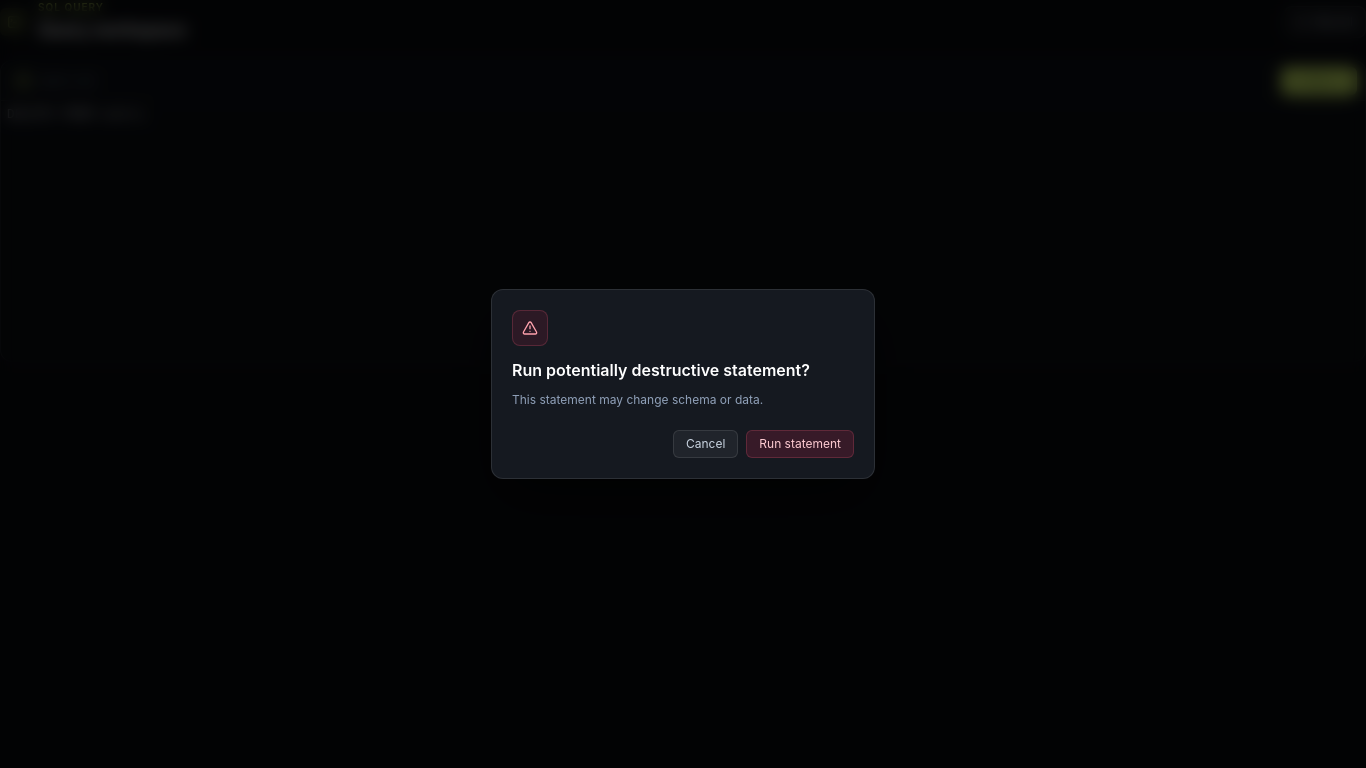
Scenario: SqlWorkspace › does not execute a destructive direct run when cancelled
Click the button "Cancel".
click(706, 444)  # box [673,430,738,458]
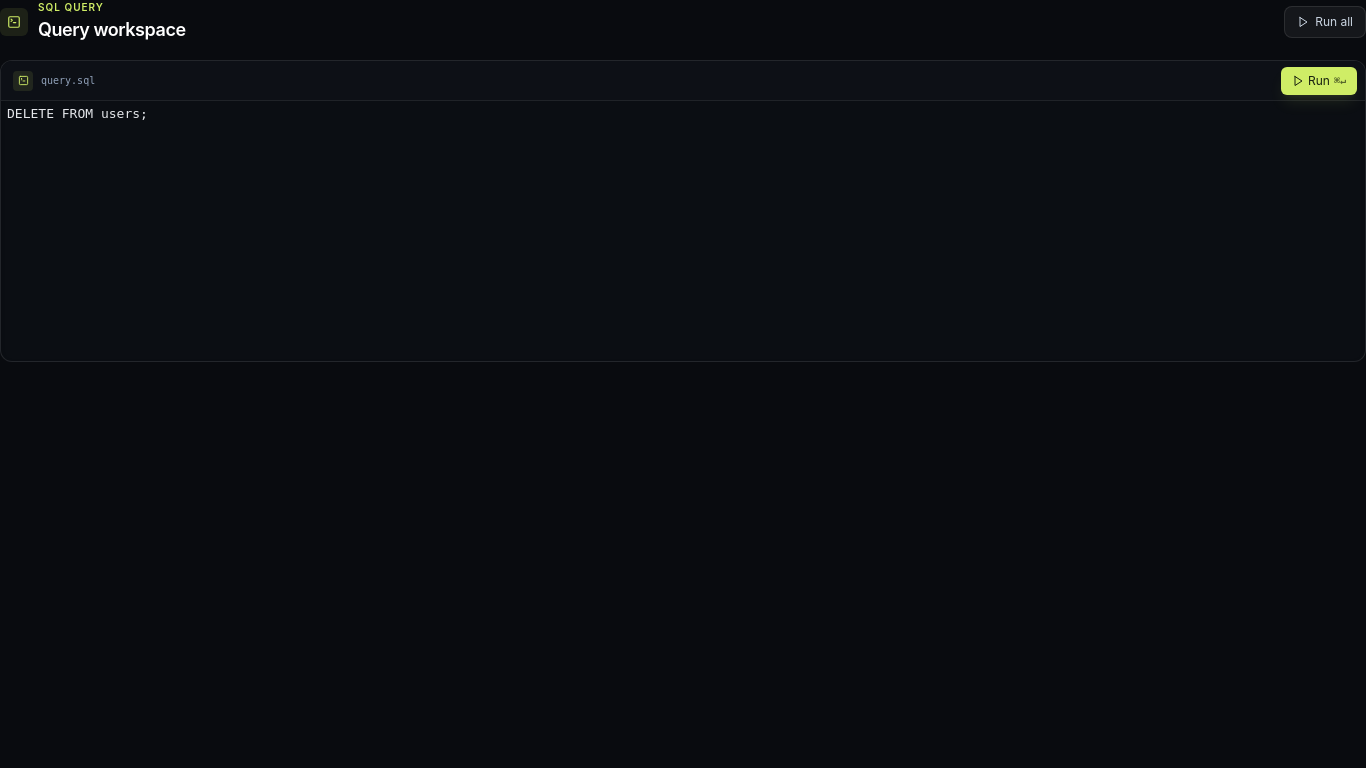
Check: the text "may change schema or data" is gone
